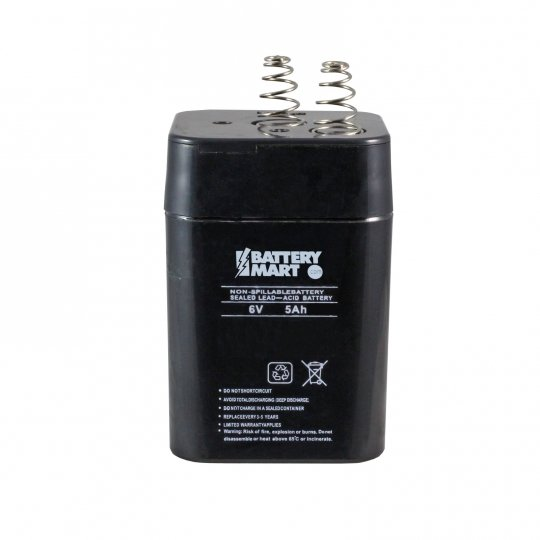6V: (151, 49, 420, 472)
